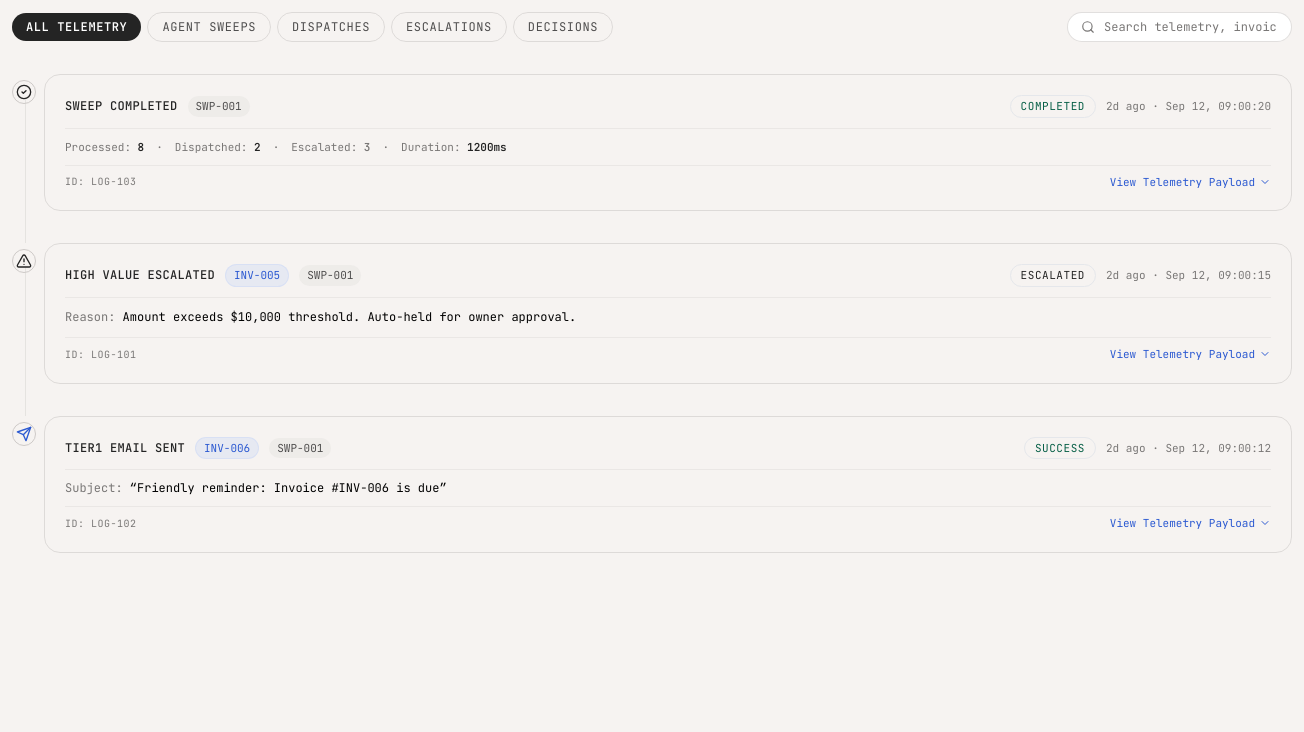
Test case: AuditTimeline Component › filters entries when category filter chip is clicked
Click the button "Agent Sweeps" at (209, 27), box [147, 12, 271, 42]
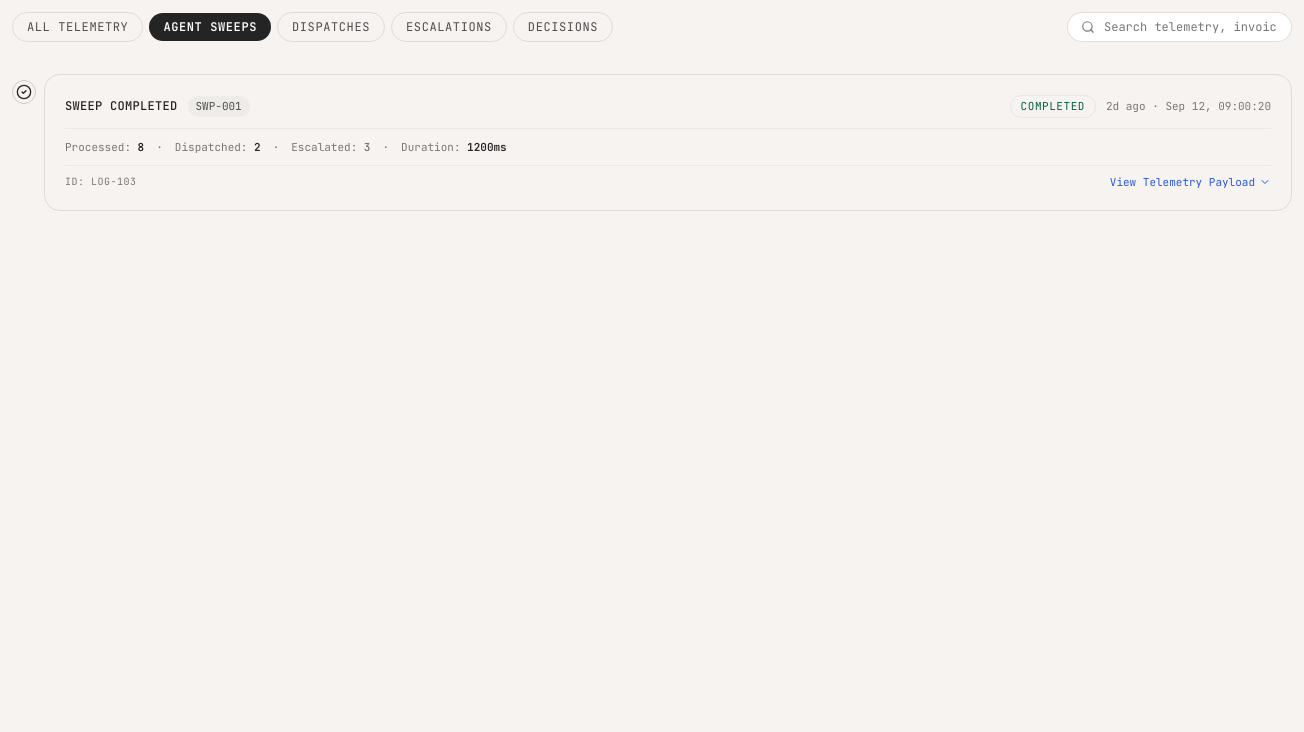
expect the text "SWEEP COMPLETED" is shown: met, box [65, 98, 178, 114]
expect the text "HIGH VALUE ESCALATED" is gone: met
expect the text "TIER1 EMAIL SENT" is gone: met
